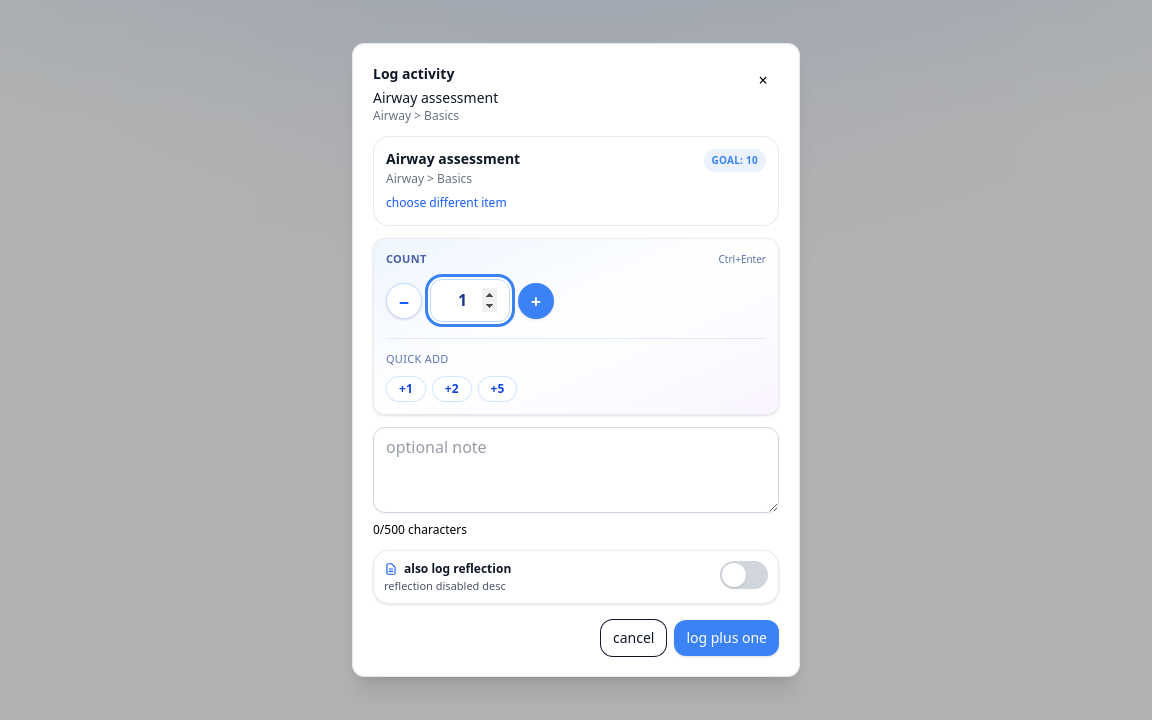
Test: QuickLogDialog › lets residents adjust counts quickly
Expected: the number field holds "1", [430,279,510,322]
Click the button "+5".
click(497, 389)  # box [478,376,517,402]
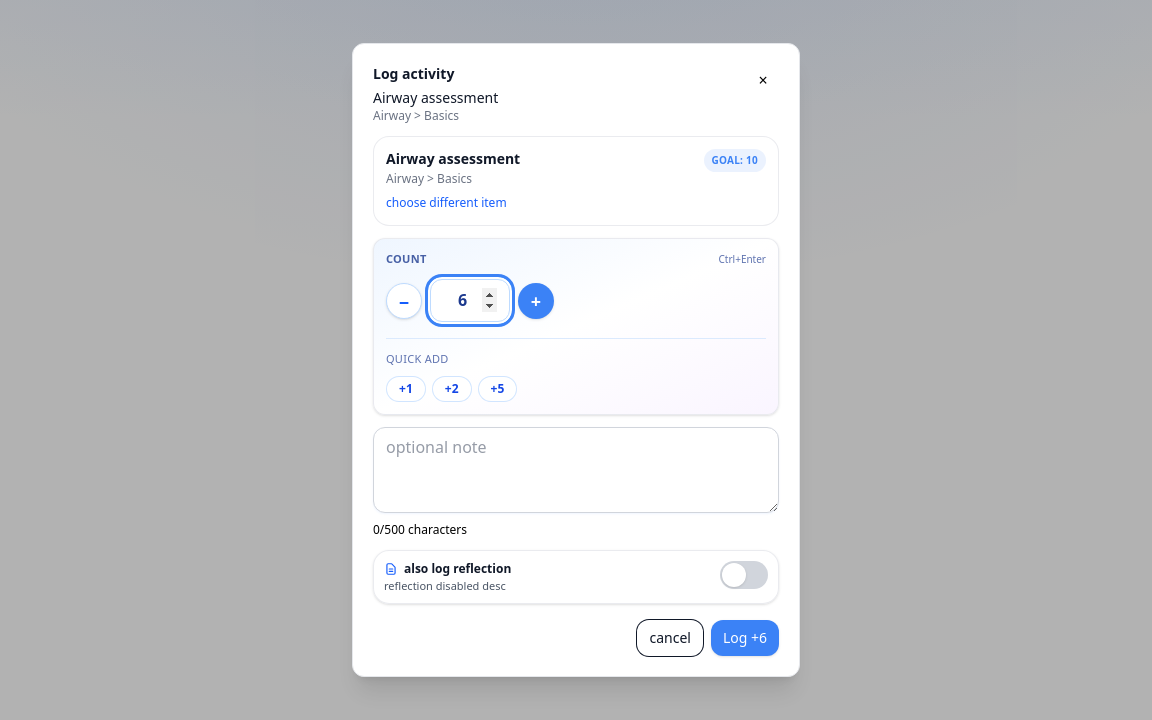
Expected: the number field holds "6", [430,279,510,322]
Click the button named "decrease count".
click(404, 301)  # box [386,283,422,319]
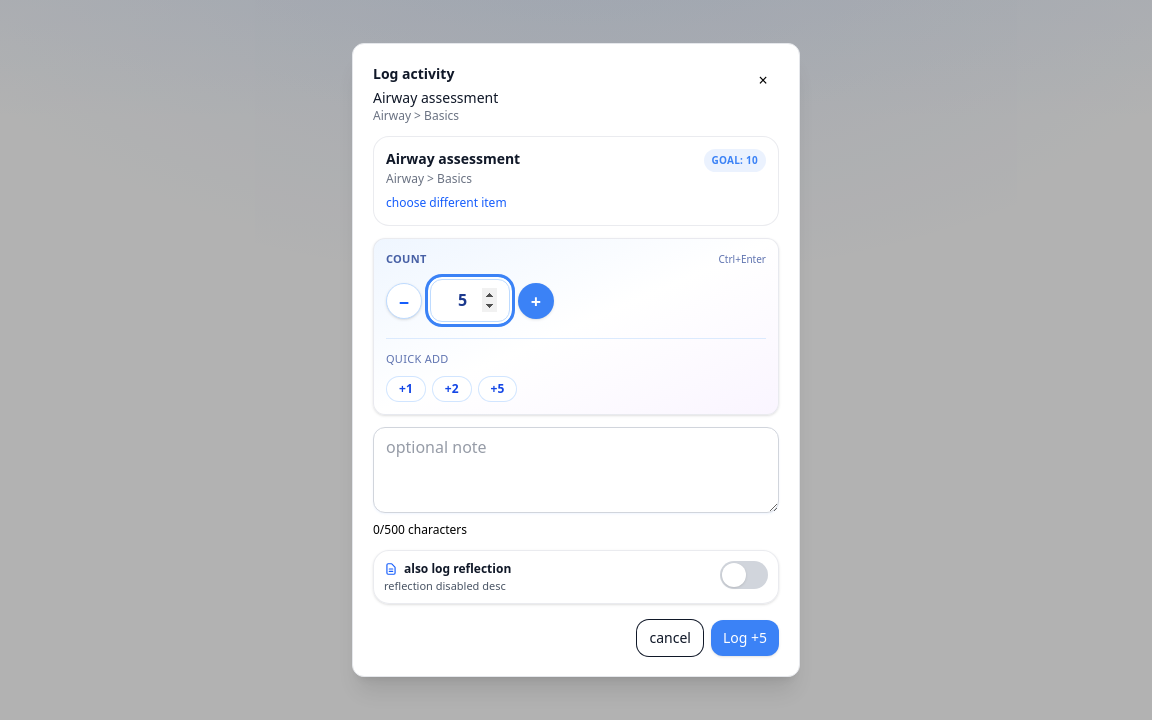
Expected: the number field holds "5", [430,279,510,322]
